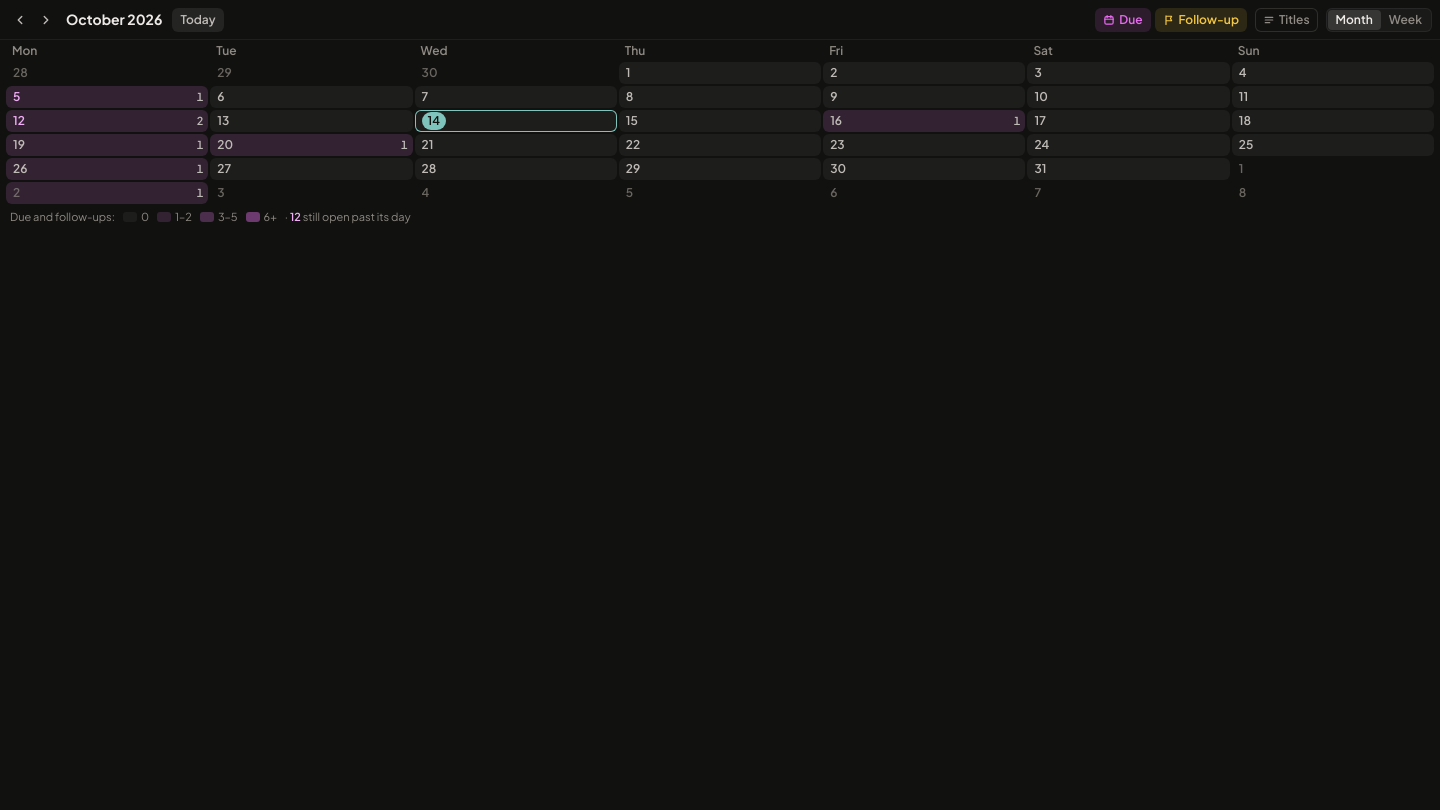
it: CalendarWidget heat map (titles off) › clicking a day opens the day popover with its entries
Click the button "12 2".
click(107, 121)  # box [6,110,208,132]
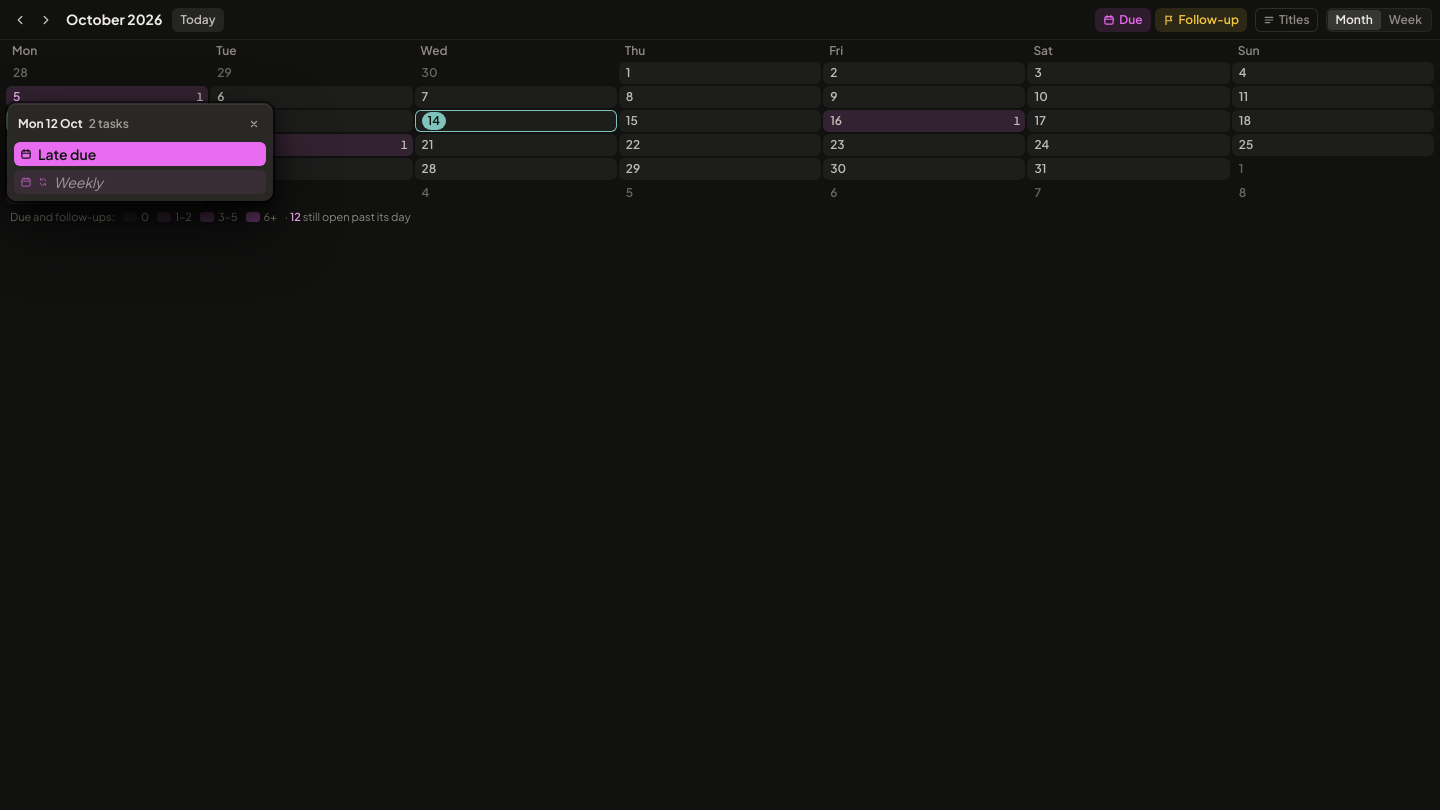
Check: the text "Late due" is shown, box [38,145,96,163]
Check: the text "Weekly" is shown, box [54,173,103,191]
